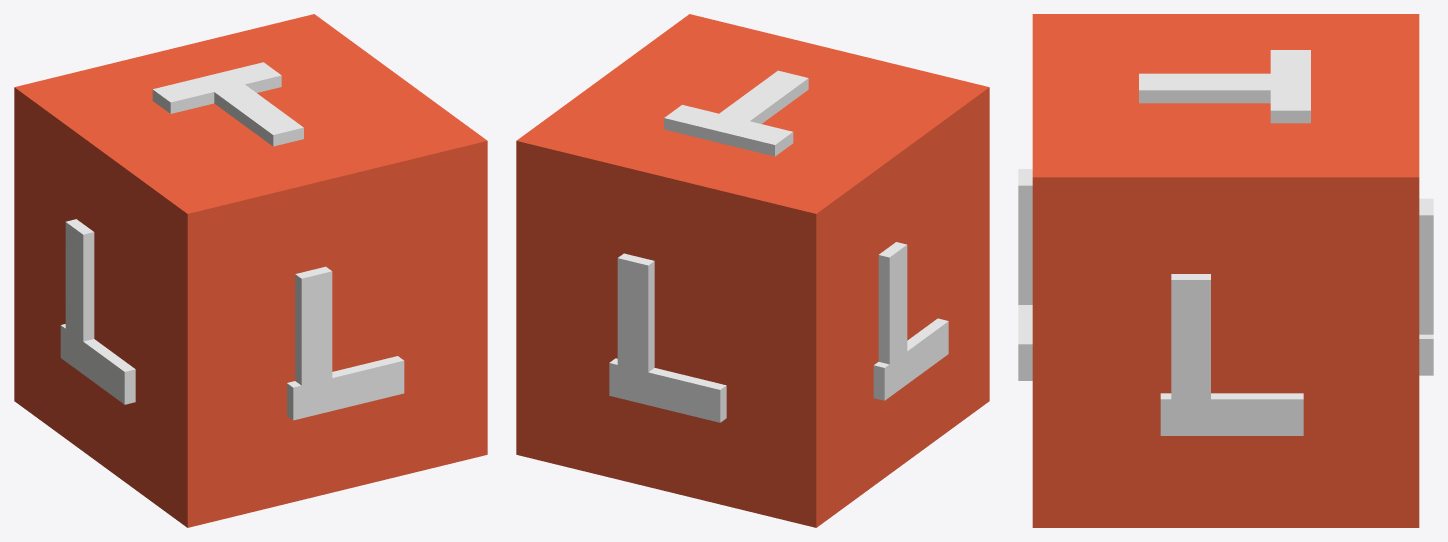
Rendered from TARGET_15.glb.
3 renders of one model, left to right at view 1: azimuth 30°, elevation 25°; view 2: azimuth 150°, elevation 25°; view 3: azimuth 270°, elevation 25°, orthographic. The views are drawn at different scales.
Parts seen in each view (by area): view 1: TARGET_HIGH_15; view 2: TARGET_HIGH_15; view 3: TARGET_HIGH_15.
Boxes of the visible parts, x1,y1,x2,y2 form: TARGET_HIGH_15: (14,14,487,527); TARGET_HIGH_15: (516,14,989,527); TARGET_HIGH_15: (1018,14,1433,527).
Bounding box in the file's own units: 2.15 × 2.15 × 2.15.
